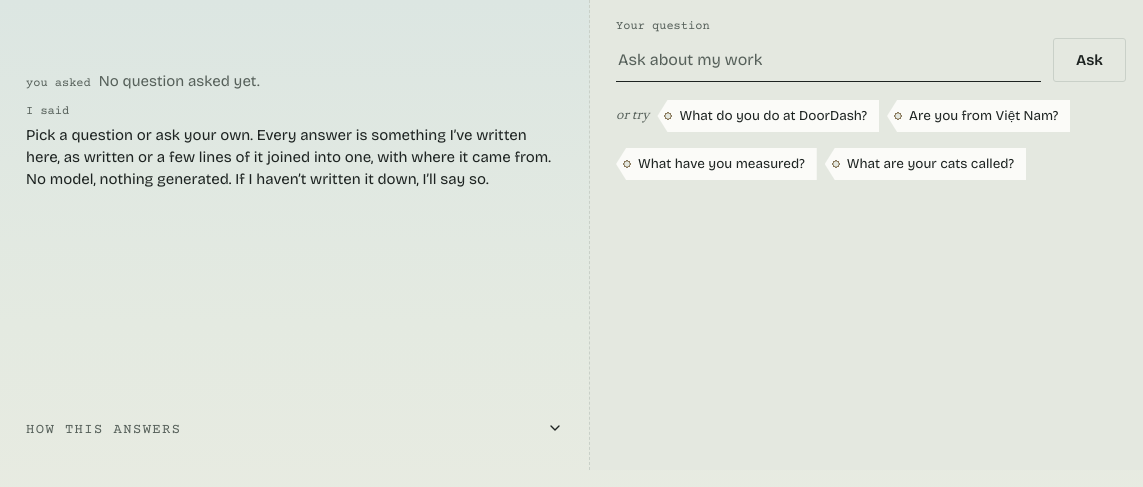
Test case: AskThisSite -- Clear conversation › appears once a turn exists, empties the thread when pressed, and returns focus to the question field
Step 1. Click the button "What have you measured?" → (716, 164), box left=616, top=142, right=817, bottom=186
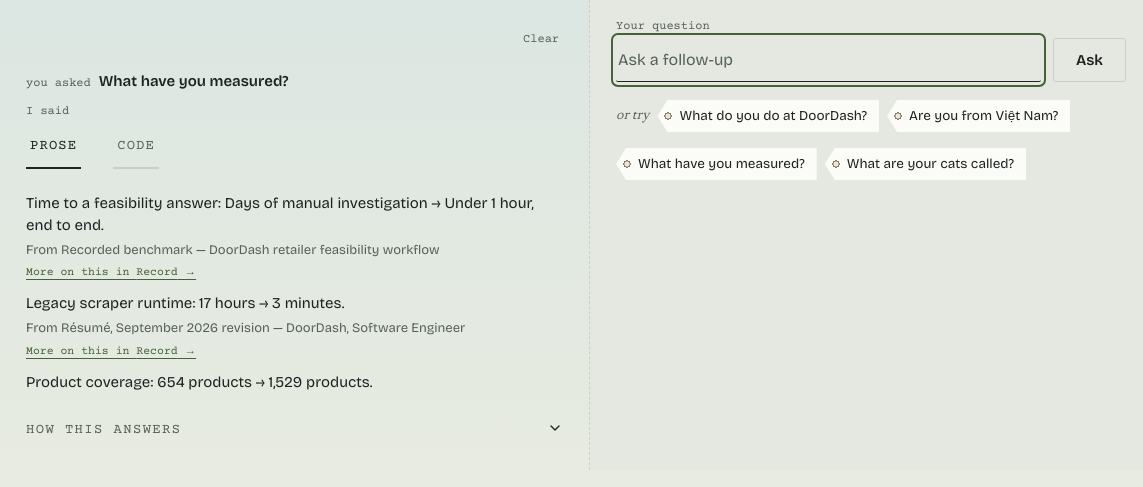
Now the button with aria-label "Clear conversation" is shown
Step 2. Click the button with aria-label "Clear conversation" → (541, 40), box left=519, top=18, right=563, bottom=62
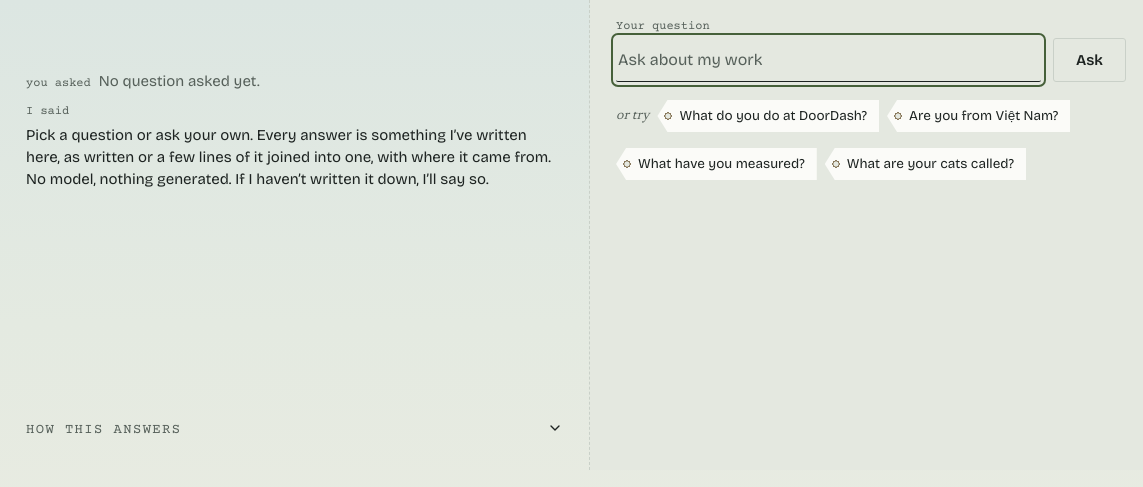
Now the button "Clear conversation" is gone
Now the text "No question asked yet." is shown, box left=99, top=70, right=260, bottom=92
